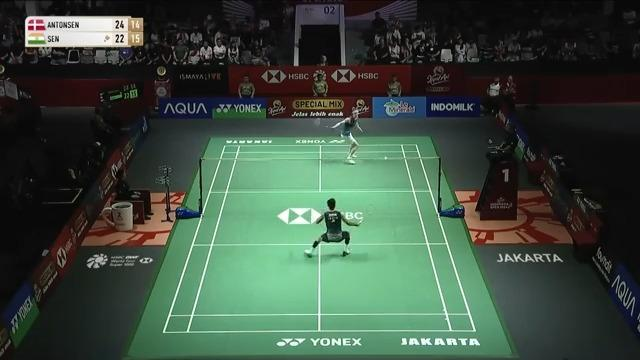Shuttlecock: (381, 152, 391, 166)
